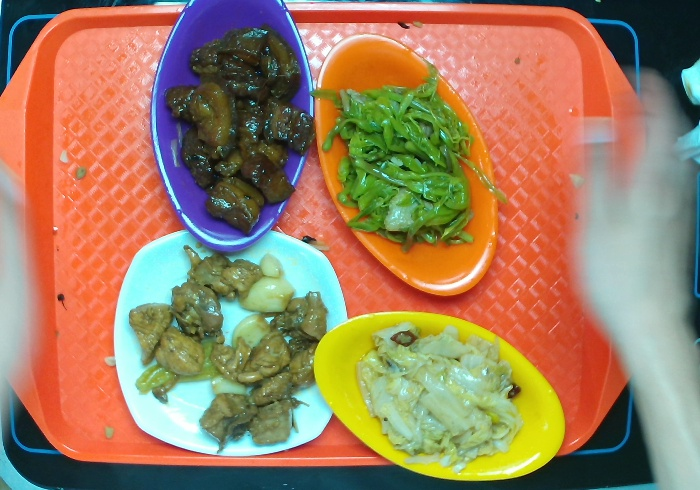RJxy-Fen_Hong_Tuo_Yuan: (148, 1, 316, 253)
RJxy-Huang_Se_Tuo_Yuan: (312, 309, 567, 482)
RJxy-Ju_Huang_Tuo_Yuan: (312, 31, 501, 296)
RJxy-Si_Fang_Die: (112, 227, 350, 459)
